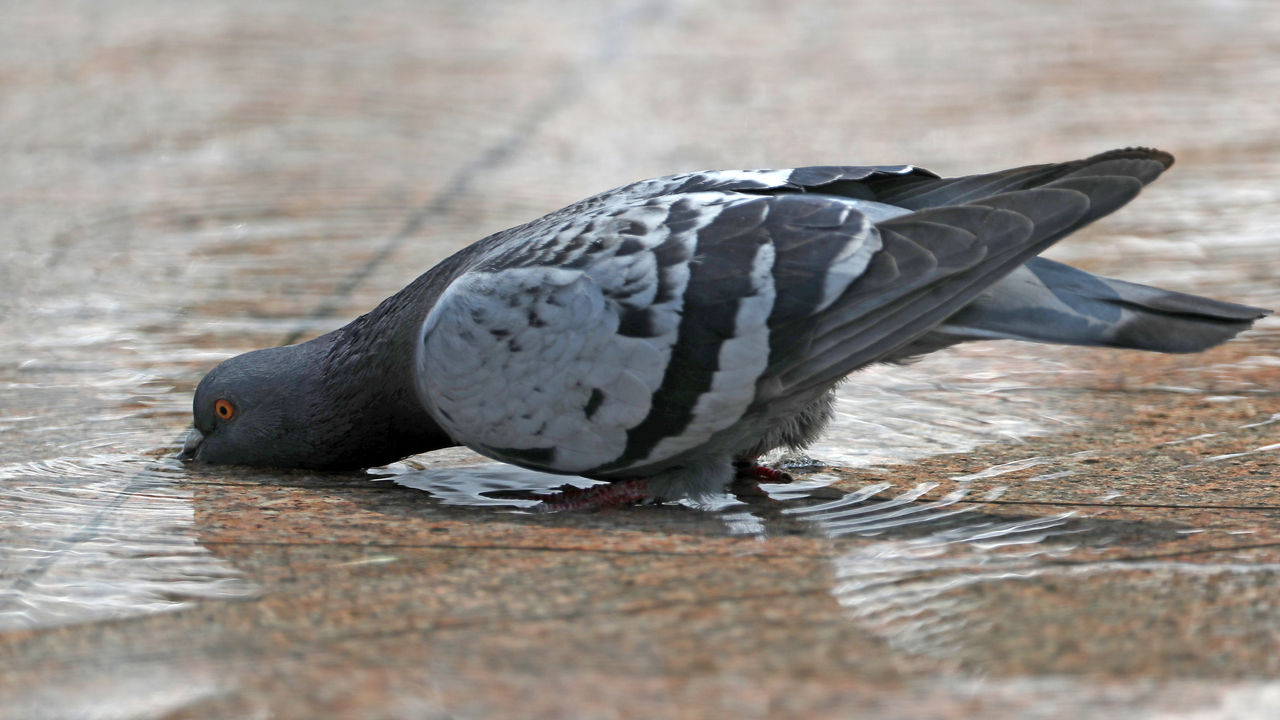pigeon: (168, 147, 1275, 533)
